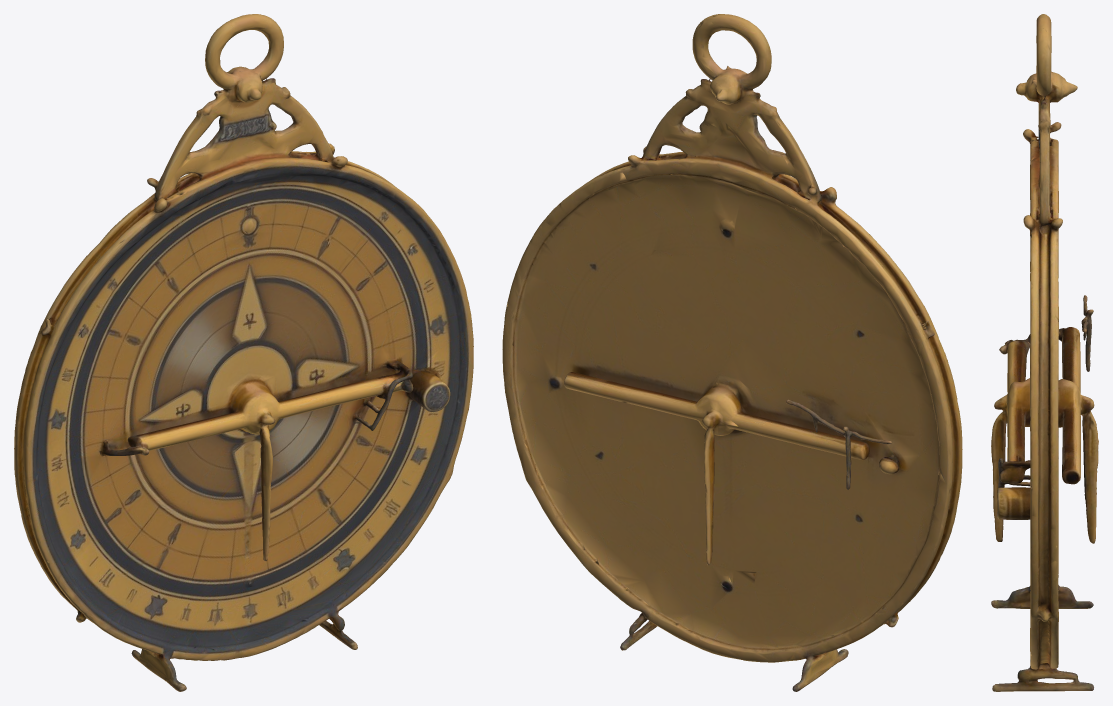
The model's file is astrolabe.glb.
The picture shows the model from 3 angles, left to right: view 1: azimuth 30°, elevation 25°; view 2: azimuth 150°, elevation 25°; view 3: azimuth 270°, elevation 25°; orthographic projection.
Bounding box in the file's own units: 1.47 × 2 × 0.31.
1 material, 1 textured.
